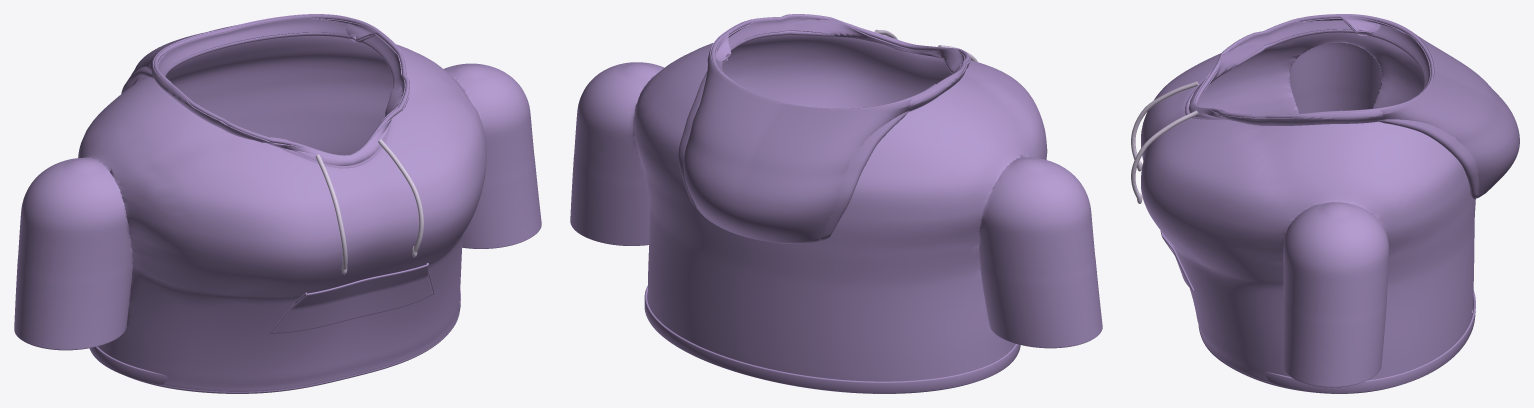
Rendered from Feminine-sweatshirt-top.glb.
The picture shows the model from 3 angles, left to right: view 1: azimuth 30°, elevation 25°; view 2: azimuth 150°, elevation 25°; view 3: azimuth 270°, elevation 25°; orthographic projection. The views are drawn at different scales.
Parts seen in each view (by area): view 1: Clothing / joined sweatshirt186, Hoodie / attached opening, Hoodie / kangaroo pocket, Hoodie / rolled opening export, Hoodie / resting hood, Neckline / fitted crew export, Hoodie / ribbed hem, Shirt / seated hem export, Hoodie / drawcord 1 export, Hoodie / drawcord -1 export; view 2: Clothing / joined sweatshirt186, Hoodie / resting hood, Hoodie / ribbed hem, Hoodie / attached opening, Hoodie / rolled opening export, Neckline / fitted crew export; view 3: Clothing / joined sweatshirt186, Hoodie / resting hood, Hoodie / attached opening, Hoodie / ribbed hem, Hoodie / rolled opening export, Neckline / fitted crew export, Hoodie / drawcord 1 export, Hoodie / drawcord -1 export.
Boxes of the visible parts, x1,y1,x2,y2 form: Clothing / joined sweatshirt186: (14,36,541,391); Hoodie / attached opening: (151,17,410,165); Hoodie / kangaroo pocket: (270,264,433,333); Hoodie / rolled opening export: (153,14,409,155); Hoodie / resting hood: (121,14,376,93); Neckline / fitted crew export: (165,32,394,168); Hoodie / ribbed hem: (89,291,460,384); Shirt / seated hem export: (126,312,459,393); Hoodie / drawcord 1 export: (378,139,423,252); Hoodie / drawcord -1 export: (315,154,347,269); Clothing / joined sweatshirt186: (570,35,1102,381); Hoodie / resting hood: (678,33,935,243); Hoodie / ribbed hem: (644,285,1020,393); Hoodie / attached opening: (709,17,970,111); Hoodie / rolled opening export: (711,14,969,109); Neckline / fitted crew export: (722,30,954,73); Clothing / joined sweatshirt186: (1141,32,1475,387); Hoodie / resting hood: (1340,16,1519,198); Hoodie / attached opening: (1188,14,1430,126); Hoodie / ribbed hem: (1265,290,1475,393); Hoodie / rolled opening export: (1194,14,1433,117); Neckline / fitted crew export: (1185,29,1424,119); Hoodie / drawcord 1 export: (1131,110,1198,198); Hoodie / drawcord -1 export: (1131,81,1198,164).
Size of the model in its own units: 0.9625 by 0.479 by 0.6652.
